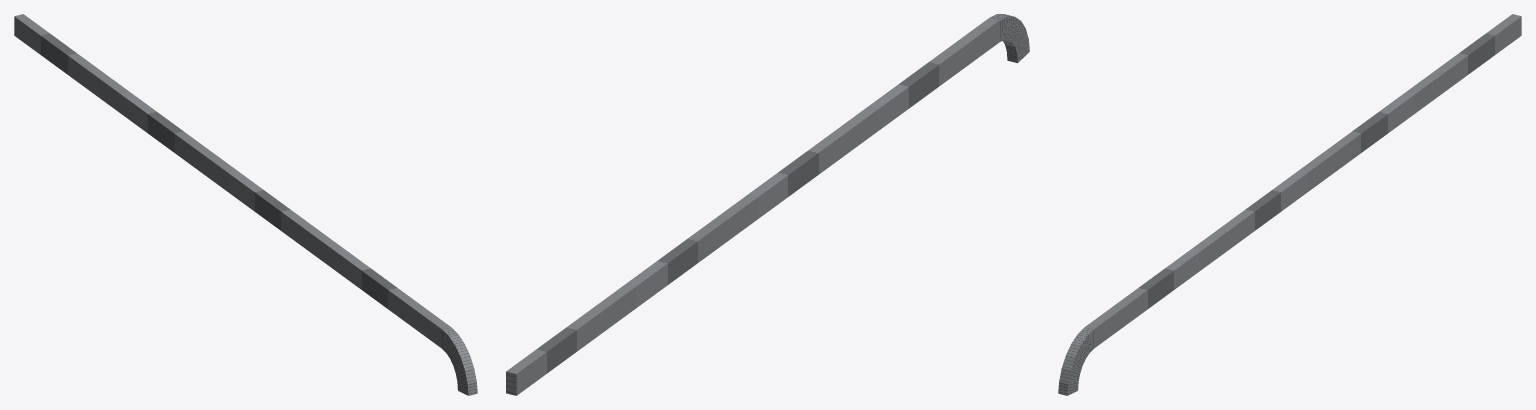
Rendered from sectional_track_cw_7.obj.
3 renders of one model, left to right at view 1: azimuth 30°, elevation 25°; view 2: azimuth 150°, elevation 25°; view 3: azimuth 330°, elevation 25°, orthographic. The views are drawn at different scales.
Parts seen in each view (by area): view 1: track; view 2: track; view 3: track.
Part boxes in pixels (x1,y1,x2,y2): track: (14, 14, 477, 395); track: (506, 14, 1029, 395); track: (1058, 14, 1521, 395).
Bounding box in the file's own units: 0.0938 × 0.481 × 7.97.
